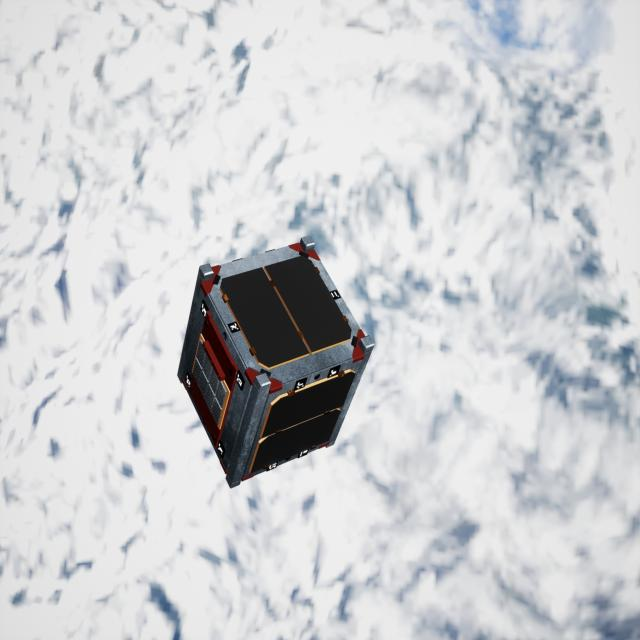medium_debris: (173, 232, 375, 490)
